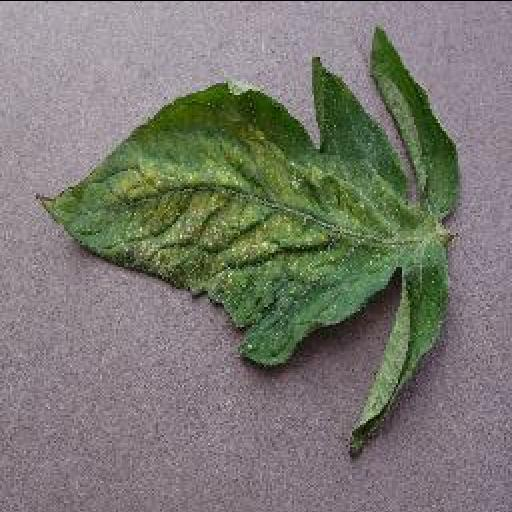disease_tomato: (36, 27, 462, 449)
